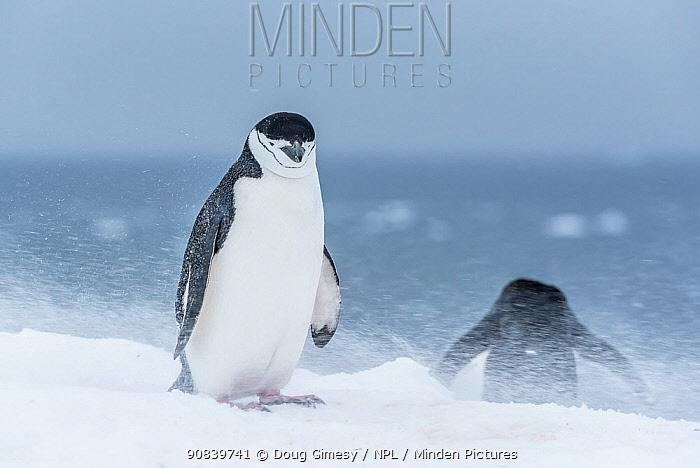chinstrap: (158, 109, 353, 430)
